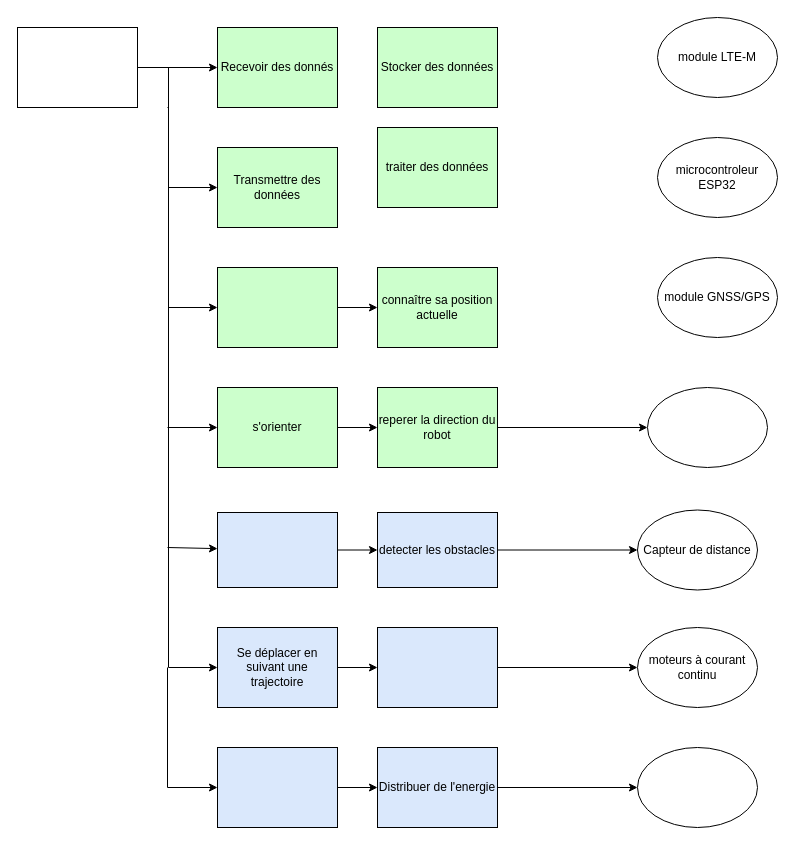
This 795x845 diagram has some shape labels left out. Each missing label, with the centre of its shape:
"Alimenter systéme electronique" goes at pixel 277 787.
"Carte electronique puissance" goes at pixel 697 787.
"Deplacer le penetrometre" goes at pixel 77 67.
"deplacer les roues" goes at pixel 437 667.
"magnetométre" goes at pixel 707 427.
"Se géolocaliser" goes at pixel 277 307.
"Éviter les obstacles" goes at pixel 277 550.
